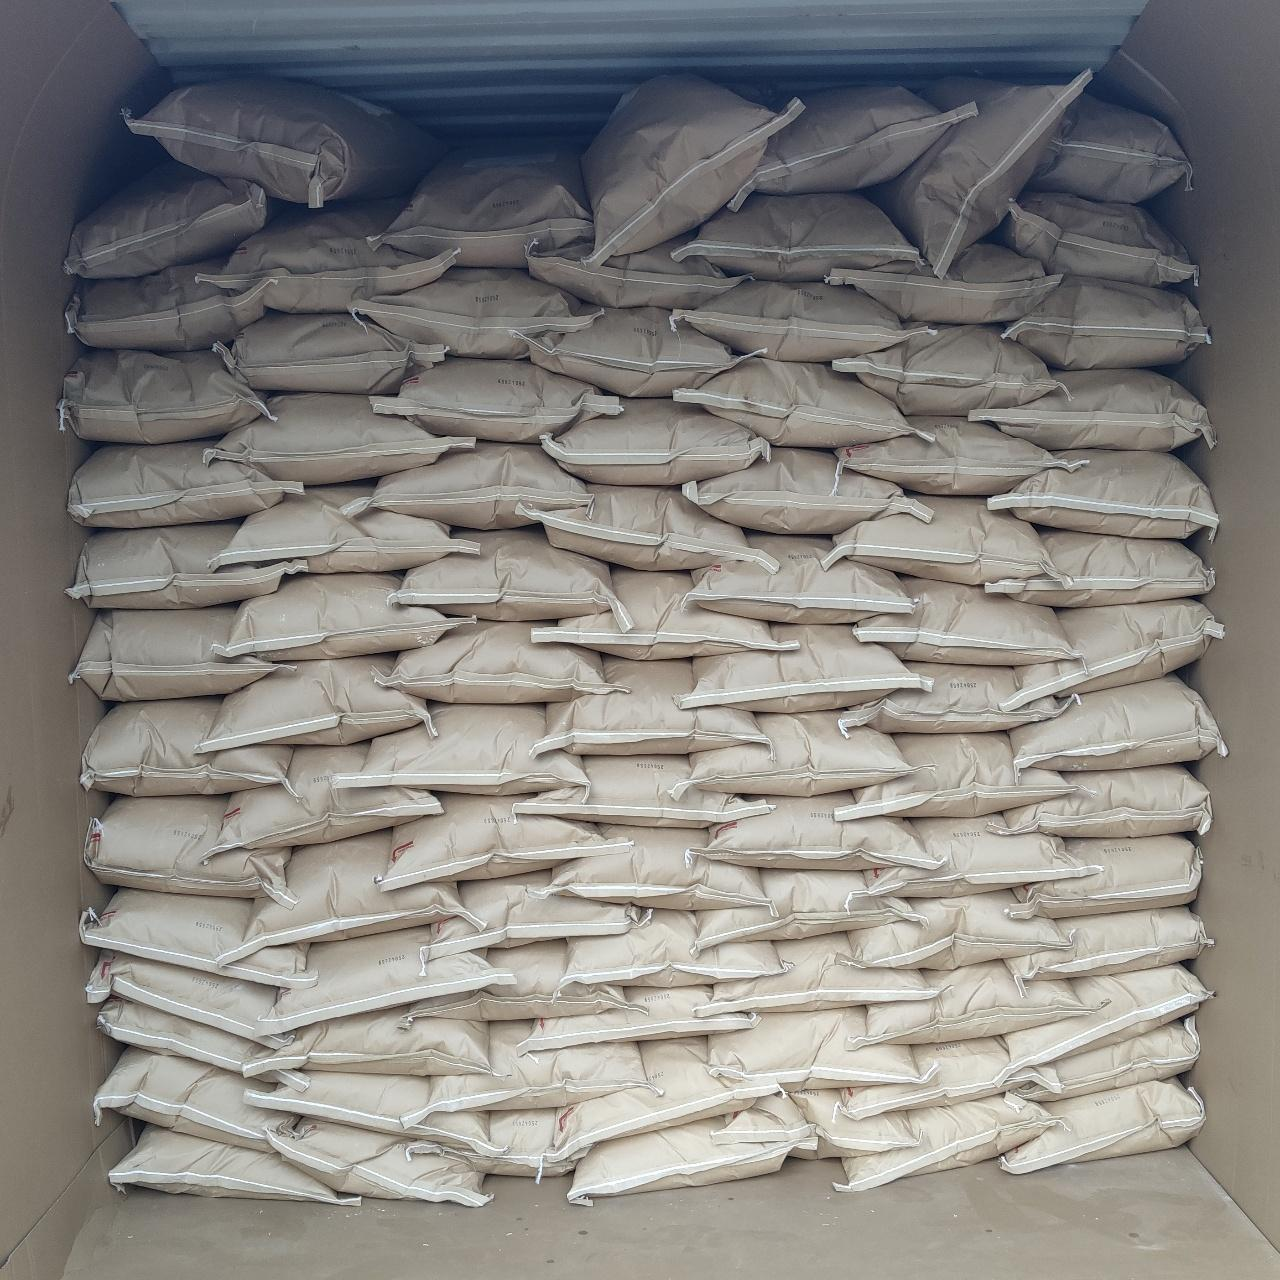sack: (876, 72, 1090, 270), (126, 78, 446, 204), (584, 76, 802, 260), (222, 827, 486, 964), (543, 1036, 781, 1163), (195, 198, 455, 312), (728, 86, 972, 206), (256, 928, 508, 1036), (204, 742, 438, 856), (382, 146, 590, 266), (532, 568, 798, 658), (208, 394, 472, 484), (210, 484, 478, 572), (82, 890, 316, 990), (66, 164, 266, 276), (192, 656, 430, 750), (420, 1022, 658, 1116), (84, 796, 294, 902), (380, 796, 616, 890), (88, 952, 304, 1054), (1002, 964, 1208, 1070), (218, 574, 470, 660), (1010, 600, 1222, 702), (338, 704, 582, 792), (568, 1119, 818, 1204), (684, 448, 930, 534), (536, 658, 764, 750), (848, 962, 1096, 1046), (354, 268, 590, 356), (838, 1096, 1058, 1190), (676, 358, 910, 446), (80, 698, 292, 794), (348, 442, 590, 526), (680, 626, 922, 710), (70, 606, 286, 700), (96, 1048, 294, 1150), (678, 194, 918, 278), (540, 486, 774, 572), (392, 530, 614, 620), (836, 734, 1068, 820), (836, 326, 1062, 414), (374, 358, 622, 438), (674, 280, 928, 358), (97, 998, 309, 1091), (1010, 676, 1224, 768), (110, 1124, 356, 1204), (690, 534, 912, 622), (68, 522, 300, 606), (70, 442, 302, 526), (826, 496, 1050, 582), (428, 870, 646, 958), (990, 452, 1218, 536), (380, 622, 616, 702), (698, 934, 934, 1014), (248, 1072, 490, 1150), (1000, 1080, 1204, 1172), (972, 370, 1212, 448), (838, 418, 1084, 494), (544, 400, 766, 484), (998, 192, 1196, 286), (530, 308, 740, 396), (856, 576, 1070, 662), (832, 242, 1062, 322), (60, 352, 266, 440), (65, 265, 275, 351), (1004, 278, 1208, 366), (214, 314, 444, 392), (866, 816, 1096, 894), (700, 794, 936, 870), (278, 1120, 490, 1204), (516, 756, 768, 826), (242, 1006, 494, 1076), (690, 712, 910, 792), (408, 942, 626, 1022), (842, 1036, 1054, 1118), (986, 530, 1214, 606), (696, 870, 918, 948), (552, 828, 764, 908), (848, 892, 1070, 966), (710, 1008, 914, 1088), (566, 910, 782, 984), (1032, 98, 1190, 198), (1010, 836, 1202, 918), (1008, 906, 1214, 982), (840, 664, 1066, 732), (516, 988, 754, 1052), (994, 766, 1210, 836), (530, 240, 744, 308), (1012, 1022, 1198, 1100), (710, 1088, 916, 1158), (438, 1108, 582, 1174)
